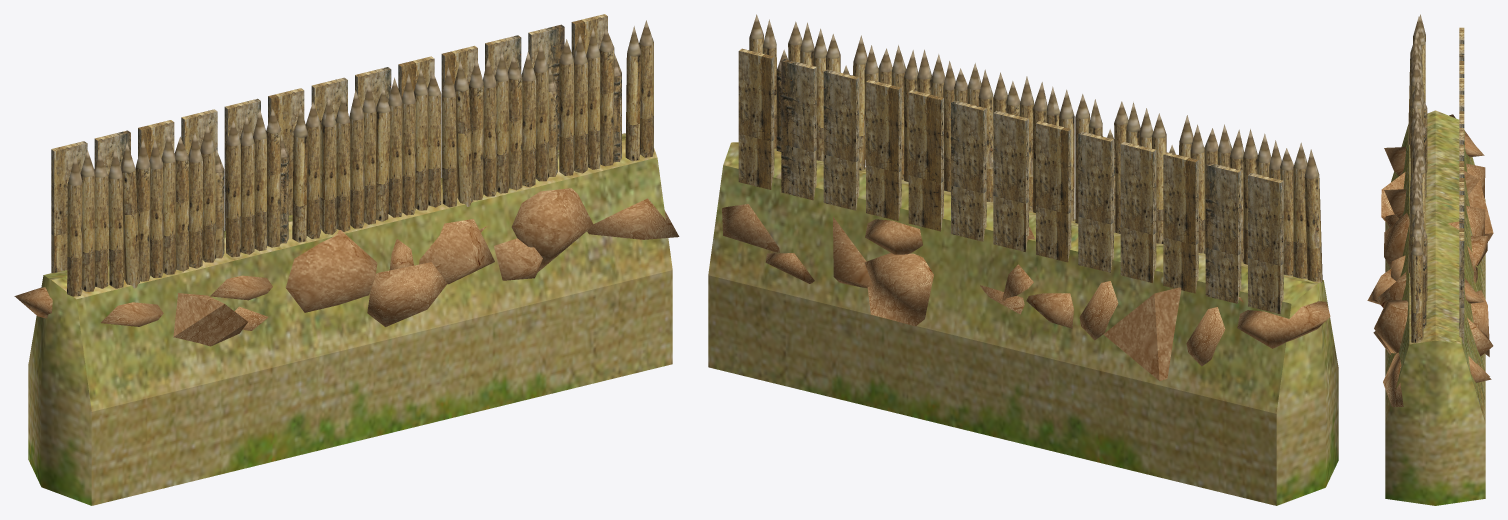
The model's file is tupis_wall_med.dae.
3 renders of one model, left to right at view 1: azimuth 30°, elevation 25°; view 2: azimuth 150°, elevation 25°; view 3: azimuth 270°, elevation 25°, orthographic. The views are drawn at different scales.
Visible parts, largest first — view 1: wall_med; view 2: wall_med; view 3: wall_med.
Boxes of the visible parts, x1=… form: wall_med: x1=14, y1=14, x2=679, y2=505; wall_med: x1=708, y1=14, x2=1338, y2=505; wall_med: x1=1367, y1=14, x2=1493, y2=505.
Size of the model in its own units: 27.39 by 5.98 by 13.9.
